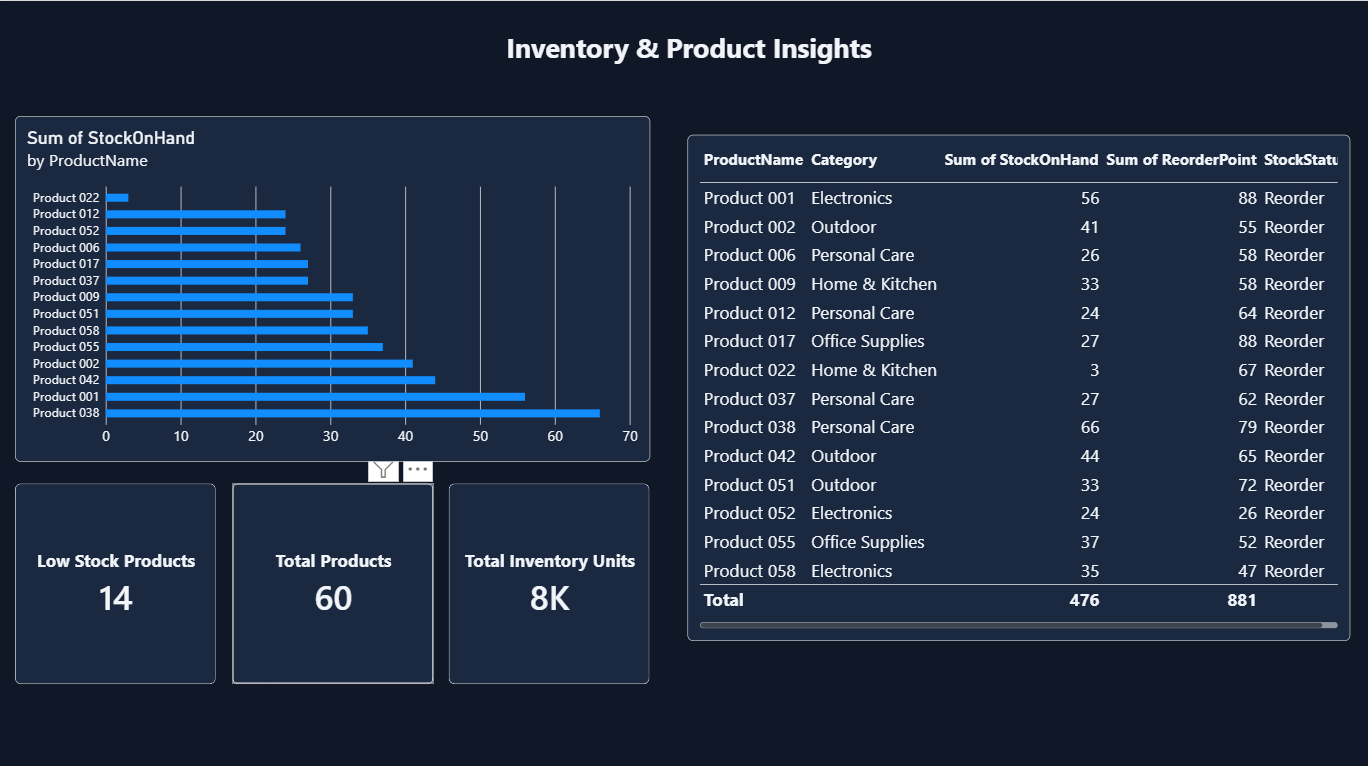

Layout of this report page (visuals, bound fields, positions):
{"tool":"powerbi","page":{"name":"Inventory & Products","canvas":[1920,1080],"ordinal":2},"visuals":[{"type":"cardVisual","fields":{"Data":["customers.Total Products"]},"box":[325.2,673.1,280,280],"z":0},{"type":"cardVisual","fields":{"Data":["inventory.Low Stock Products"]},"box":[20.6,673.1,280,280],"z":1000},{"type":"cardVisual","fields":{"Data":["inventory.Total Inventory Units"]},"box":[625.7,673.1,280,280],"z":2000},{"type":"clusteredBarChart","fields":{"Category":["products.ProductName"],"Y":["Sum(inventory.StockOnHand)"]},"box":[20.1,160.8,886,482.4],"z":3000},{"type":"tableEx","fields":{"Values":["products.ProductName","products.Category","Sum(inventory.StockOnHand)","Sum(inventory.ReorderPoint)","inventory.StockStatus"]},"box":[959.3,186.6,924.4,706.4],"z":4000},{"type":"textbox","box":[706.4,40.1,586,71.5],"z":4001}]}

Visuals, with their boxes in screenshot pixels (x1, y1, x2, y2), scaled from the page's 1920x1080 canvas onto the 1368x766 screenshot:
cardVisual - customers.Total Products: left=232, top=477, right=431, bottom=676
cardVisual - inventory.Low Stock Products: left=15, top=477, right=214, bottom=676
cardVisual - inventory.Total Inventory Units: left=446, top=477, right=645, bottom=676
clusteredBarChart - products.ProductName x Sum(inventory.StockOnHand): left=14, top=114, right=646, bottom=456
tableEx - products.ProductName x products.Category: left=684, top=132, right=1342, bottom=633
textbox: left=503, top=28, right=921, bottom=79
